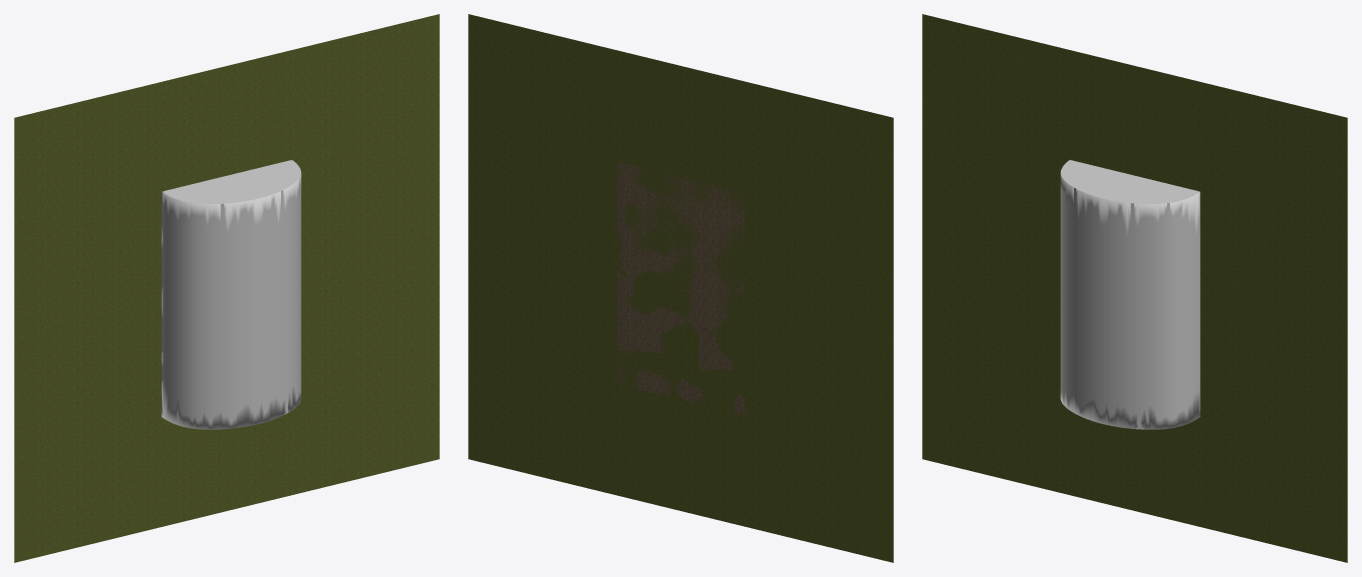
3 views of the same model, side by side, from view 1: azimuth 30°, elevation 25°; view 2: azimuth 150°, elevation 25°; view 3: azimuth 330°, elevation 25° (orthographic).
Parts seen in each view (by area): view 1: greenhouse_greenhouse_link_collision_grass-1.002, greenhouse_curve_top_link_collision_top-side.001, greenhouse_back_link_collision_back.001; view 2: greenhouse_greenhouse_link_collision_grass-1.002, greenhouse_base_link_collision_floor.001; view 3: greenhouse_greenhouse_link_collision_grass-1.002, greenhouse_curve_top_link_collision_top-side.001, greenhouse_back_link_collision_back.001.
Part boxes in pixels (x1,y1,x2,y2): greenhouse_greenhouse_link_collision_grass-1.002: (14, 14, 439, 562); greenhouse_curve_top_link_collision_top-side.001: (161, 160, 301, 429); greenhouse_back_link_collision_back.001: (163, 160, 299, 203); greenhouse_greenhouse_link_collision_grass-1.002: (468, 14, 893, 562); greenhouse_base_link_collision_floor.001: (617, 161, 744, 415); greenhouse_greenhouse_link_collision_grass-1.002: (922, 14, 1347, 562); greenhouse_curve_top_link_collision_top-side.001: (1060, 160, 1200, 429); greenhouse_back_link_collision_back.001: (1062, 160, 1198, 203).
Bounding box in the file's own units: 60 × 60 × 7.67.
14 materials, 8 textured.
